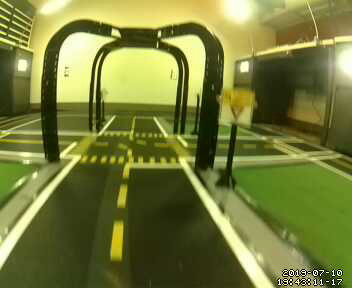Turn Yield: (220, 88, 253, 125)
